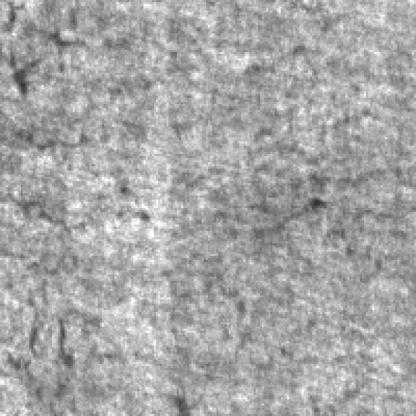crazing: (235, 8, 416, 270), (4, 179, 162, 414), (6, 2, 245, 142)
